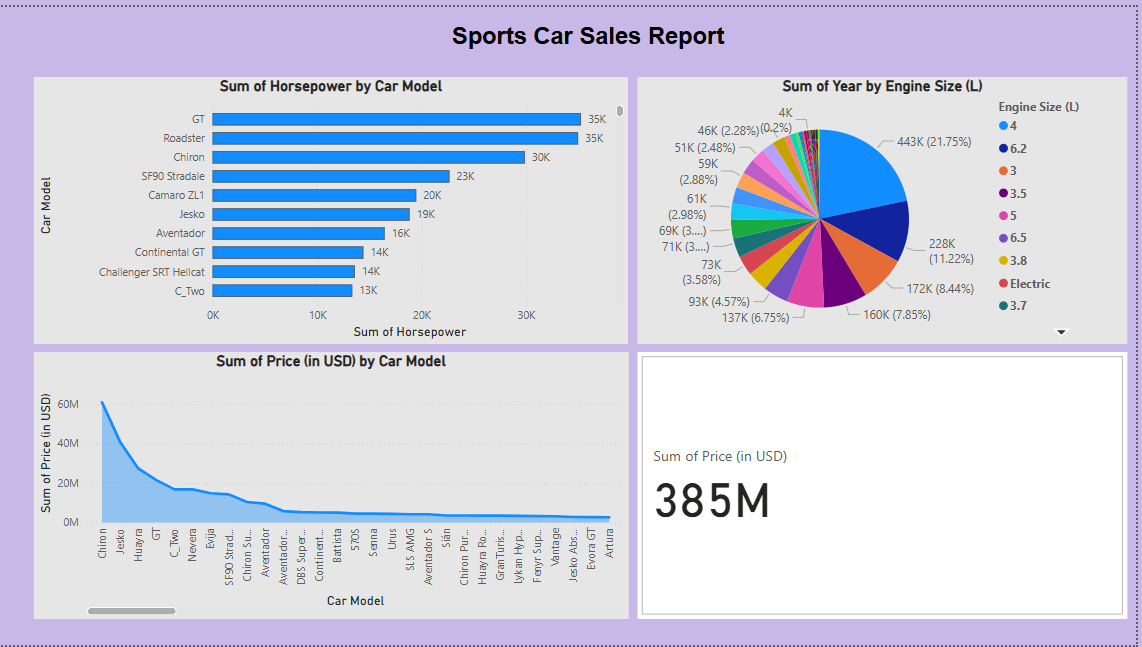

What the dashboard file says about the page in this screenshot:
{"tool":"powerbi","page":{"name":"Page 1","canvas":[1280,720],"ordinal":0},"visuals":[{"type":"textbox","box":[495.4,12.3,333.4,76.8],"z":0},{"type":"barChart","fields":{"Category":["Sport car price.Car Model"],"Y":["Sum(Sport car price.Horsepower)"]},"box":[38.4,78.2,669.6,300.5],"z":1000},{"type":"areaChart","fields":{"Category":["Sport car price.Car Model"],"Y":["Sum(Sport car price.Price (in USD))"]},"box":[38,389,670,301],"z":2000},{"type":"pieChart","fields":{"Category":["Sport car price.Engine Size (L)"],"Y":["Sum(Sport car price.Year)"]},"box":[717.7,78.2,551.6,300.5],"z":3000},{"type":"cardVisual","fields":{"Data":["Sum(Sport car price.Price (in USD))"]},"box":[718,389,552,301],"z":4000}]}

Visuals, with their boxes in screenshot pixels (x1, y1, x2, y2), scaled from the page's 1280x720 canvas onto the 1142x647 screenshot:
textbox: crop(442, 11, 739, 80)
barChart - Sport car price.Car Model x Sum(Sport car price.Horsepower): crop(34, 70, 632, 340)
areaChart - Sport car price.Car Model x Sum(Sport car price.Price (in USD)): crop(34, 350, 632, 620)
pieChart - Sport car price.Engine Size (L) x Sum(Sport car price.Year): crop(640, 70, 1132, 340)
cardVisual - Sum(Sport car price.Price (in USD)): crop(641, 350, 1133, 620)
